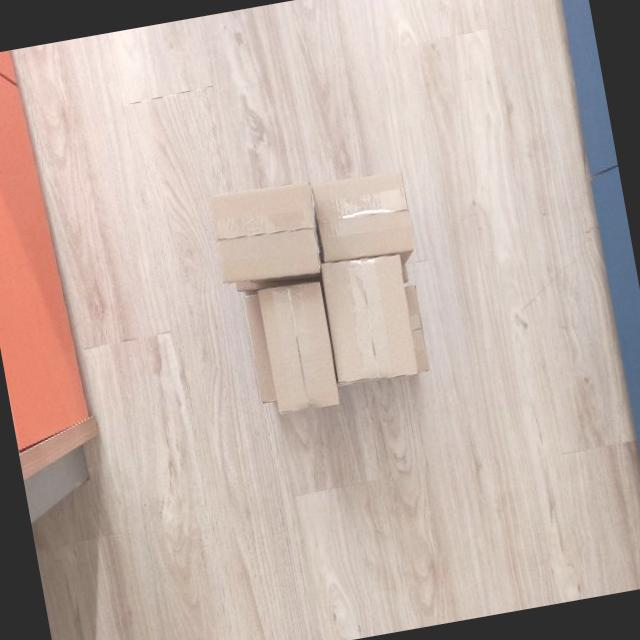box: (316, 246, 424, 394), (200, 172, 328, 294), (250, 272, 344, 420), (309, 162, 426, 270)
